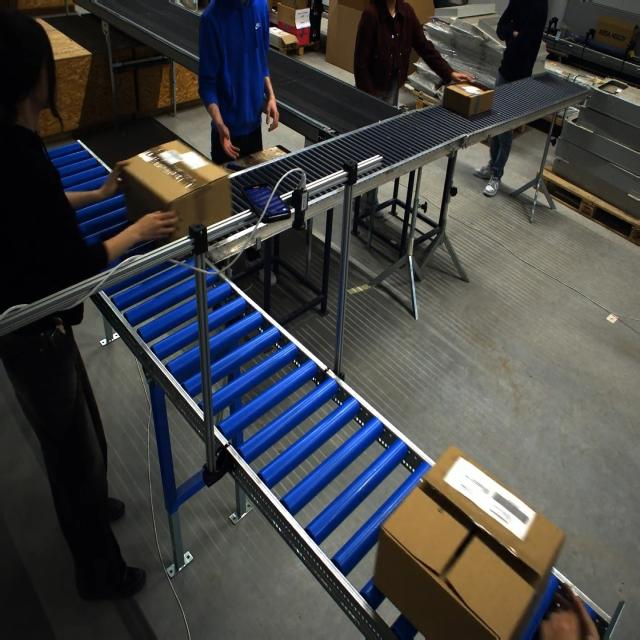box: (379, 450, 567, 640), (120, 139, 233, 241), (442, 81, 494, 118)
